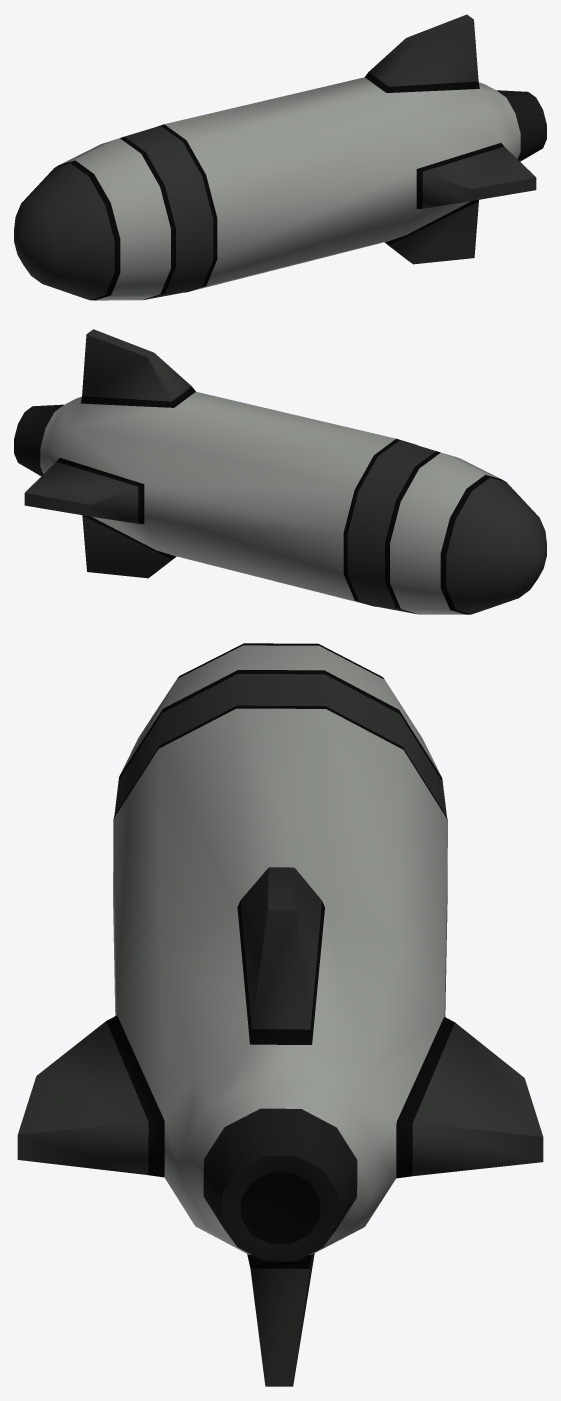
The model's file is Missile.obj.
3 renders of one model, top to bottom at view 1: azimuth 30°, elevation 25°; view 2: azimuth 150°, elevation 25°; view 3: azimuth 270°, elevation 25°, orthographic. The views are drawn at different scales.
Parts seen in each view (by area): view 1: Rocket25_Cube.001; view 2: Rocket25_Cube.001; view 3: Rocket25_Cube.001.
Part boxes in pixels (bbox=[...]): Rocket25_Cube.001: bbox=[14, 14, 546, 300]; Rocket25_Cube.001: bbox=[14, 329, 546, 614]; Rocket25_Cube.001: bbox=[17, 643, 543, 1386].
Size of the model in its own units: 15.13 by 6.71 by 6.71.
